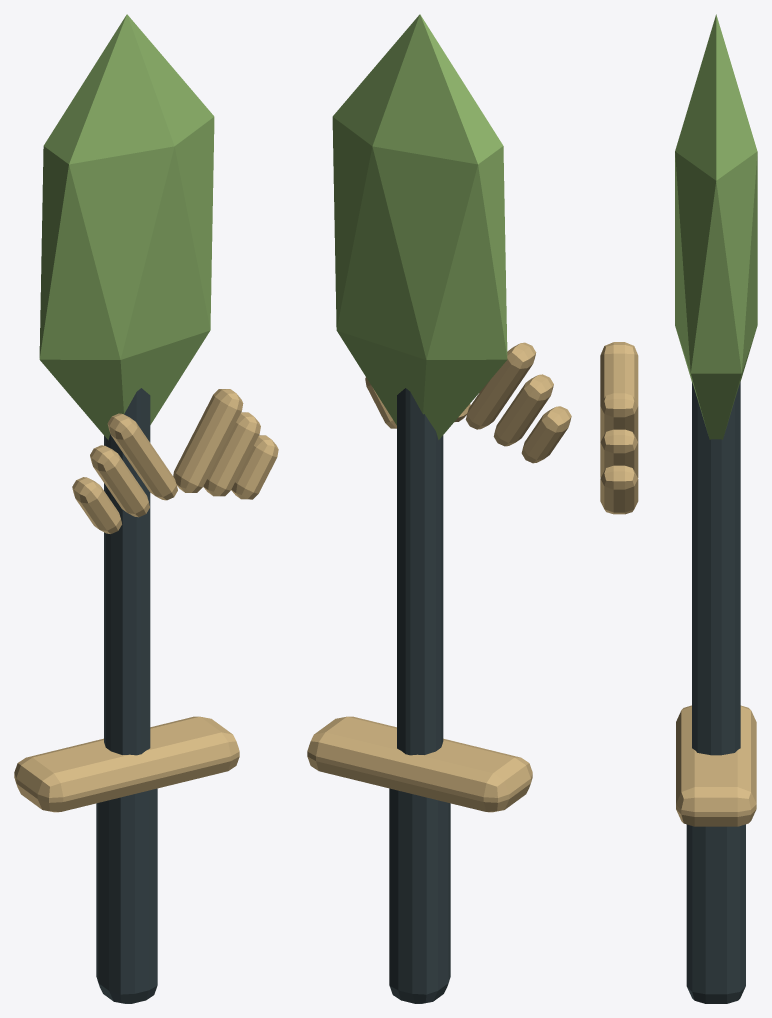
Rendered from arm_lance_weapon.glb.
3 renders of one model, left to right at view 1: azimuth 30°, elevation 25°; view 2: azimuth 150°, elevation 25°; view 3: azimuth 270°, elevation 25°, orthographic.
Parts seen in each view (by area): view 1: arm_lance_weapon; view 2: arm_lance_weapon; view 3: arm_lance_weapon.
Boxes of the visible parts, <box> form: arm_lance_weapon: <box>14,14,278,1003</box>; arm_lance_weapon: <box>307,14,571,1003</box>; arm_lance_weapon: <box>600,14,757,1003</box>.
Size of the model in its own units: 0.43 by 2.02 by 0.2916.
